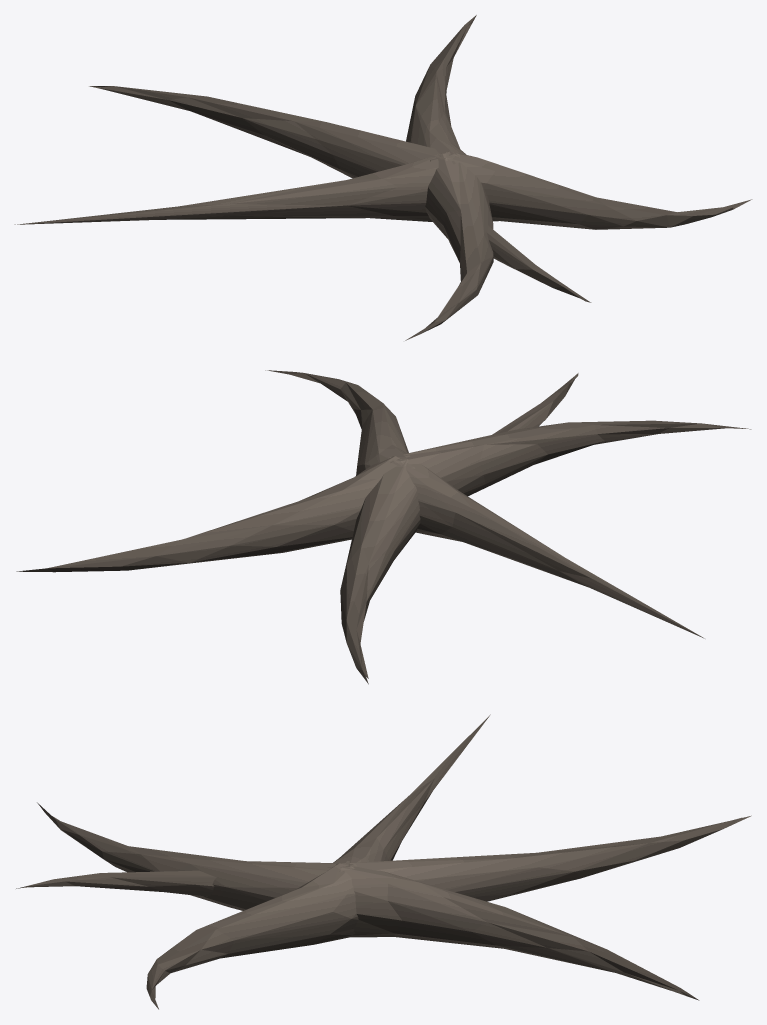
File: Prefab_Generic_Base_Roots_C.glb
The picture shows the model from 3 angles, top to bottom: view 1: azimuth 30°, elevation 25°; view 2: azimuth 150°, elevation 25°; view 3: azimuth 270°, elevation 25°; orthographic projection. The views are drawn at different scales.
Parts seen in each view (by area): view 1: BezierCurve.004; view 2: BezierCurve.004; view 3: BezierCurve.004.
Boxes of the visible parts, x1,y1,x2,y2 form: BezierCurve.004: (14,15,752,340); BezierCurve.004: (16,370,751,684); BezierCurve.004: (16,714,751,1009).
Size of the model in its own units: 2.85 by 0.3095 by 3.
1 material, 1 textured.
